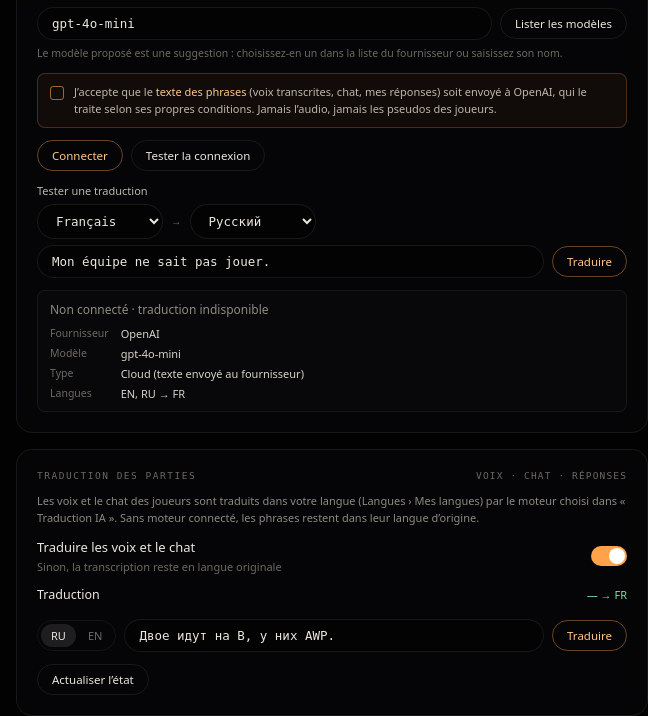
Scenario: translation test › says which engine translated the sentence
(page scrolled)
Click the button "Traduire" below "— → FR". click: (590, 636)
box: [552,620,627,652]
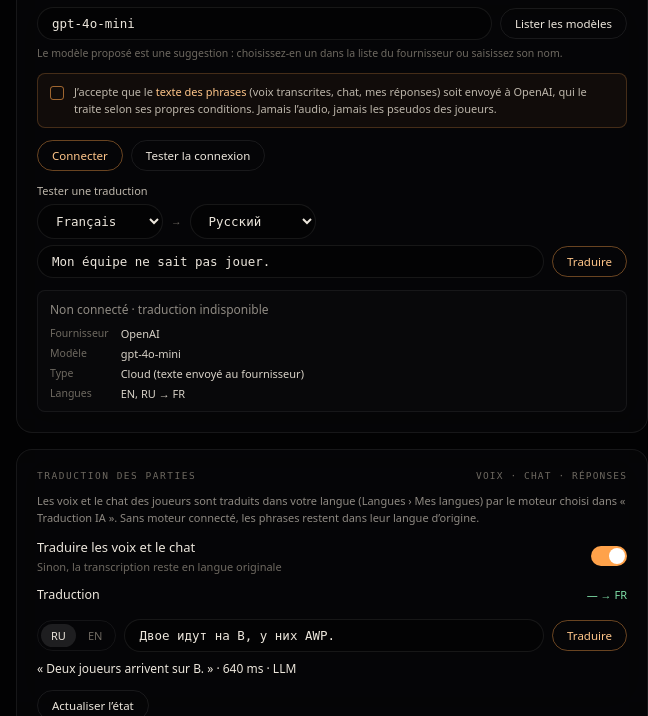
Now the message with test id "translation-result" reads "« Deux joueurs arrivent sur B. » · 640 ms · LLM", box [37,660,296,678]
Click the button "Traduire" below "— → FR". click: (590, 636)
box: [552,620,627,652]
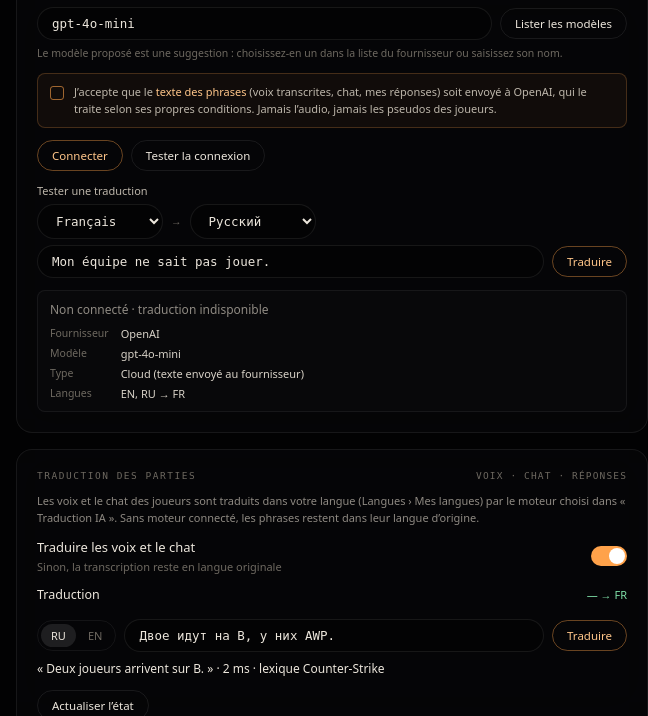
Now the message with test id "translation-result" shows "lexique Counter-Strike", box [37,660,385,678]
